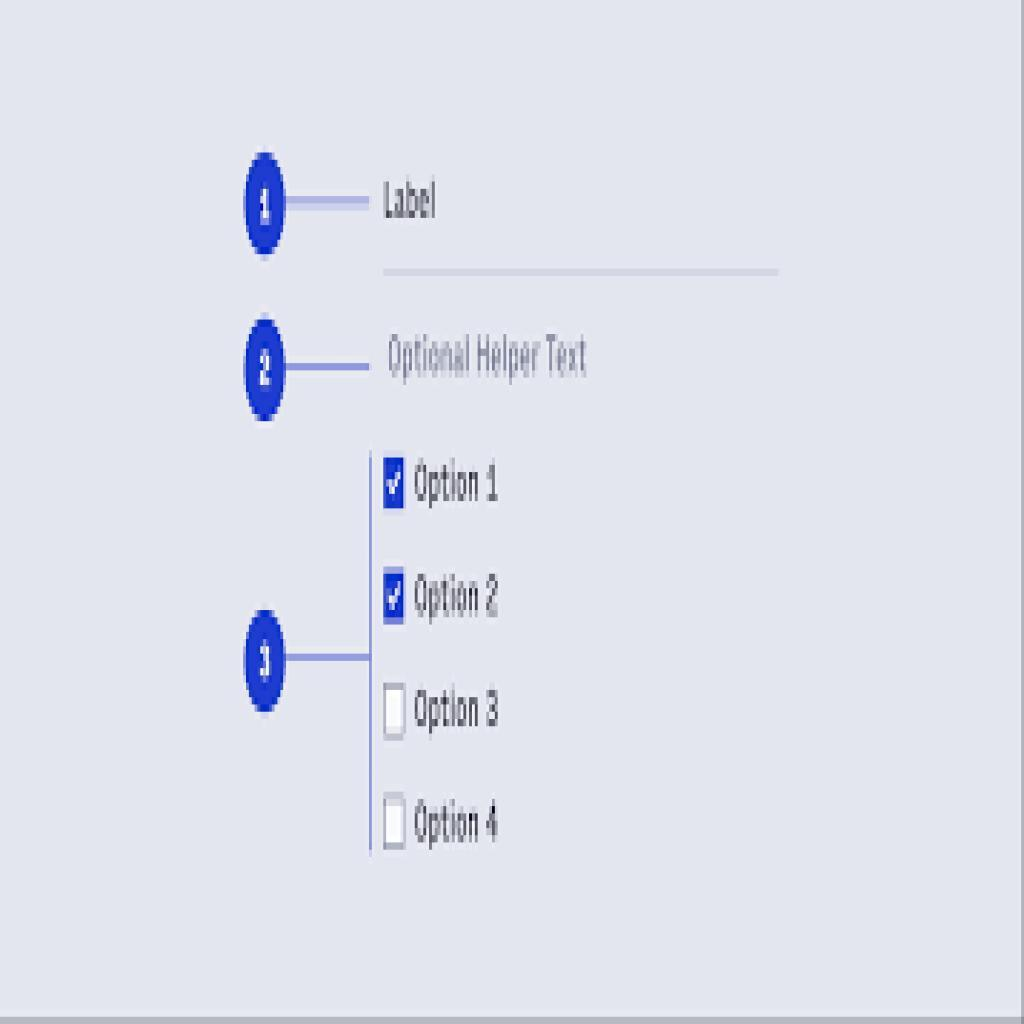checkbox: (381, 681, 410, 740), (381, 793, 410, 851), (384, 566, 407, 625), (383, 457, 407, 511)
label: (414, 567, 504, 627), (412, 454, 505, 510), (414, 682, 504, 739), (414, 795, 500, 853)
